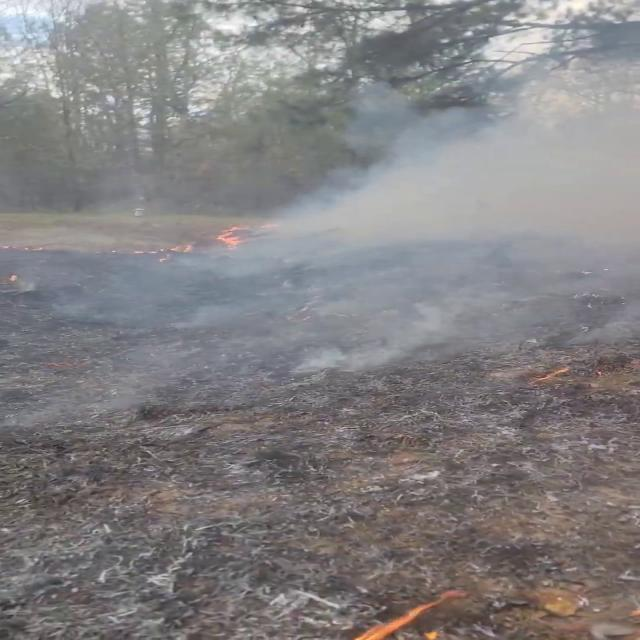Smoke: (11, 53, 640, 358)
